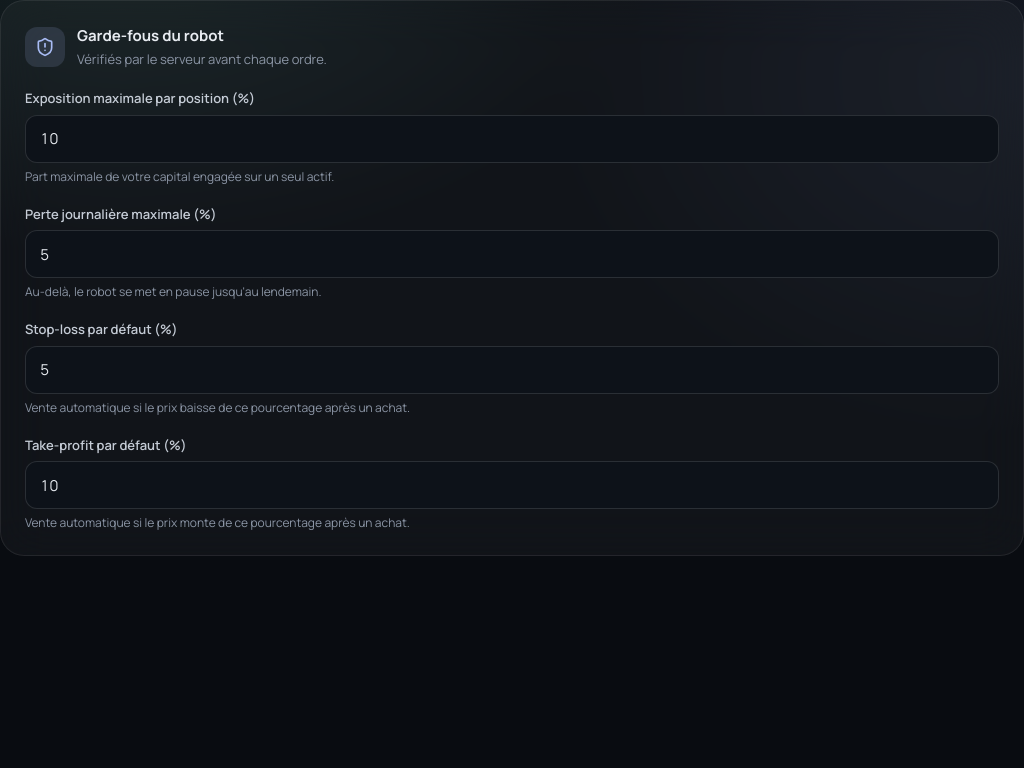
Test case: RiskCard › enregistre en sortant du champ, avec un nombre, et affiche ce que l'API a retenu
This screenshot has width=1024, height=768.
Expected: the heading "Garde-fous du robot" is shown, [77,25,224,46]
Replace the text in the field labelled "Exposition maximale par position (%)" with "12,5" at (512, 138), box [25,114,999,162]
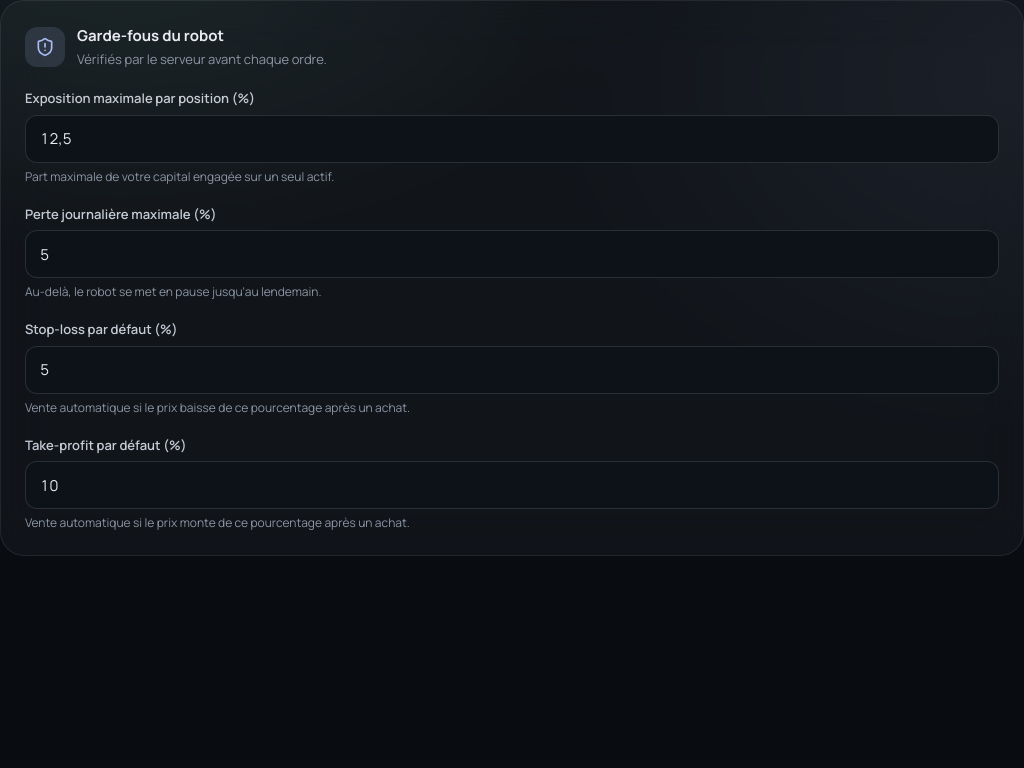
Leave the field labelled "Exposition maximale par position (%)", box [25,114,999,162]
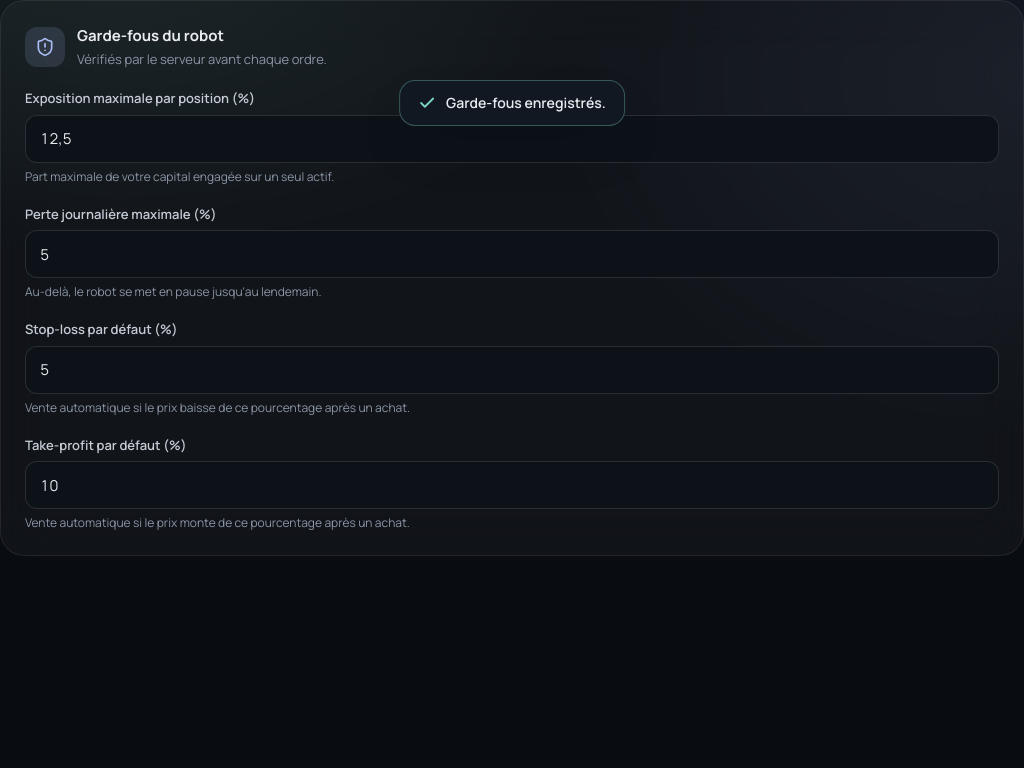
Now the field labelled "Exposition maximale par position (%)" holds "12,5", box [25,114,999,162]
Now the message reads "Garde-fous enregistrés.", box [446,93,606,112]
